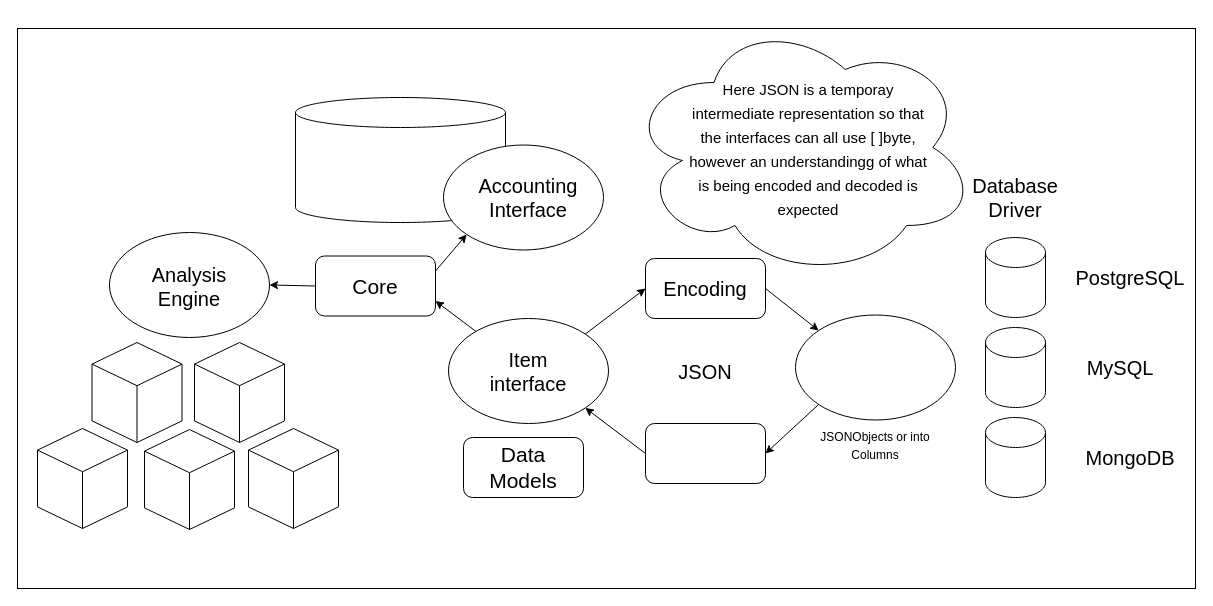
This 1213x606 diagram has some shape labels left out. Here are the shapes that lost their labels. From the top down, the centre of each, then its label:
At [400,159]: "Data Lake".
At [875,367]: "Persistence Interface".
At [705,453]: "Decoding".
